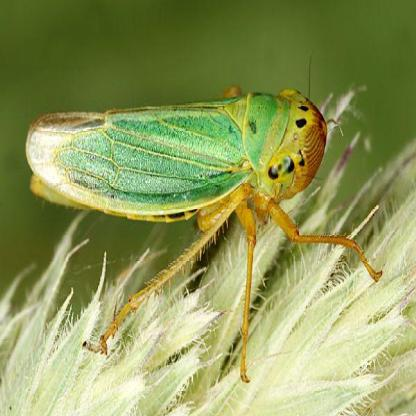Green-Leafhopper: (23, 78, 386, 382)
